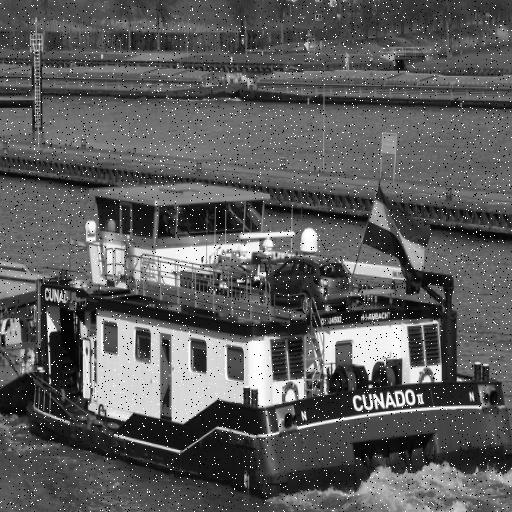tugboat: (22, 170, 512, 512)
